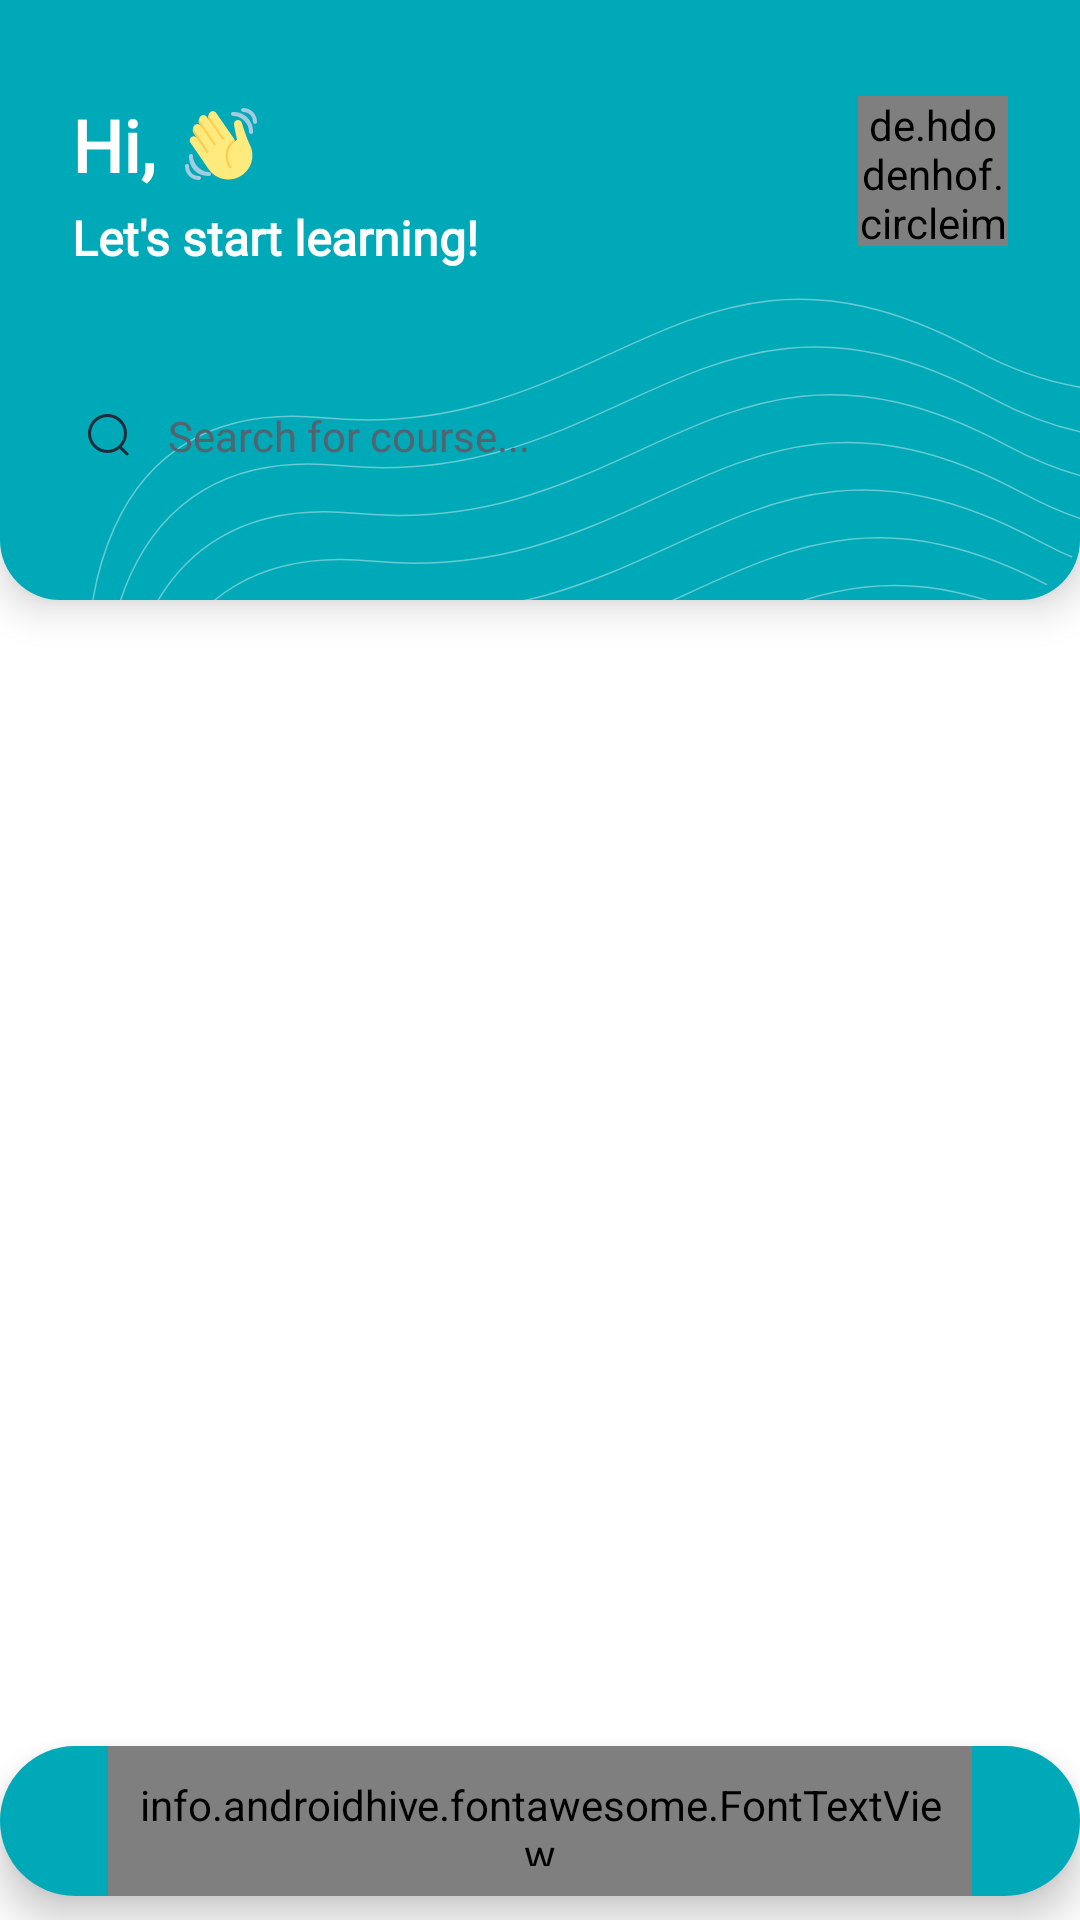

Icons on this 1080px x 1920px Android screen, each with the point to tap as (x=x, y=y):
hand wave: (x=221, y=144)
